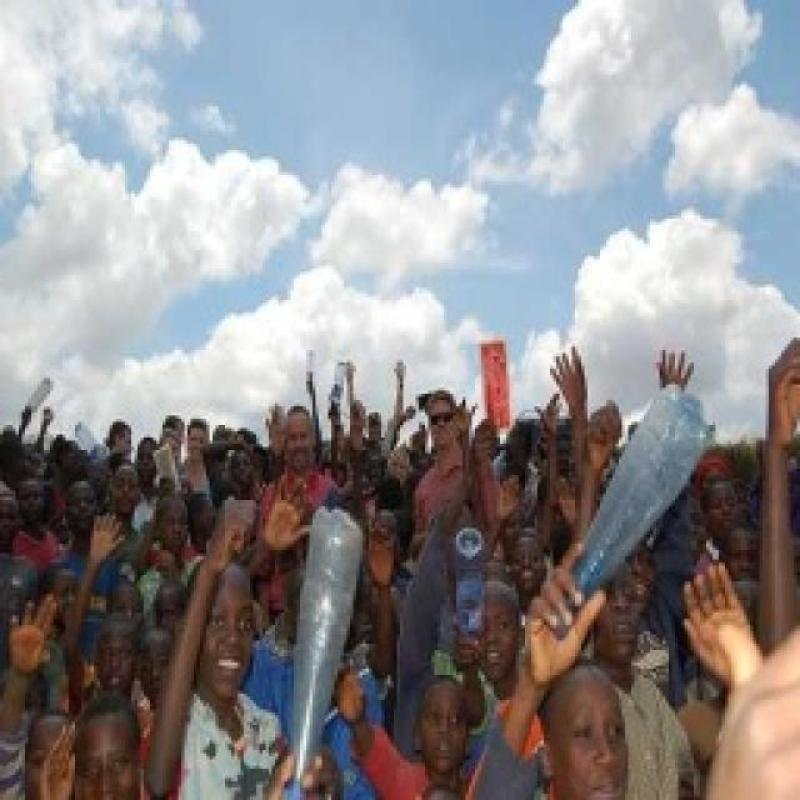botella: (566, 386, 706, 612), (282, 502, 362, 800)
